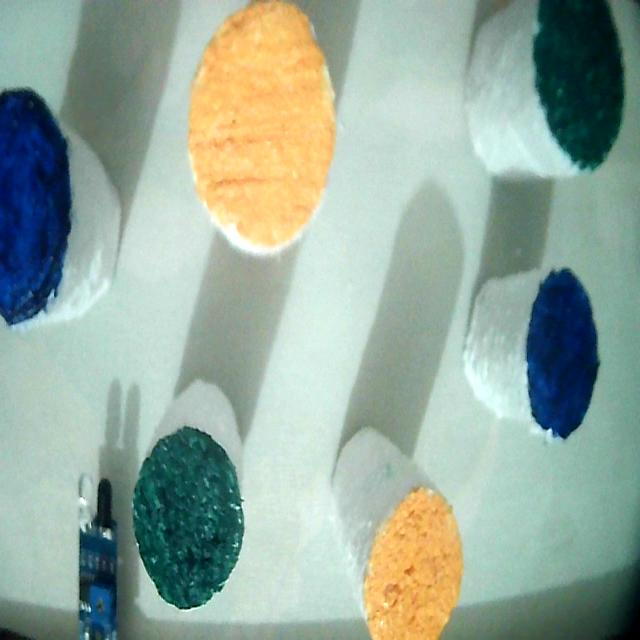blue: (0, 89, 71, 325), (527, 270, 598, 439)
green: (133, 427, 244, 609), (534, 0, 623, 169)
yellow: (188, 0, 335, 254), (364, 489, 462, 639)
